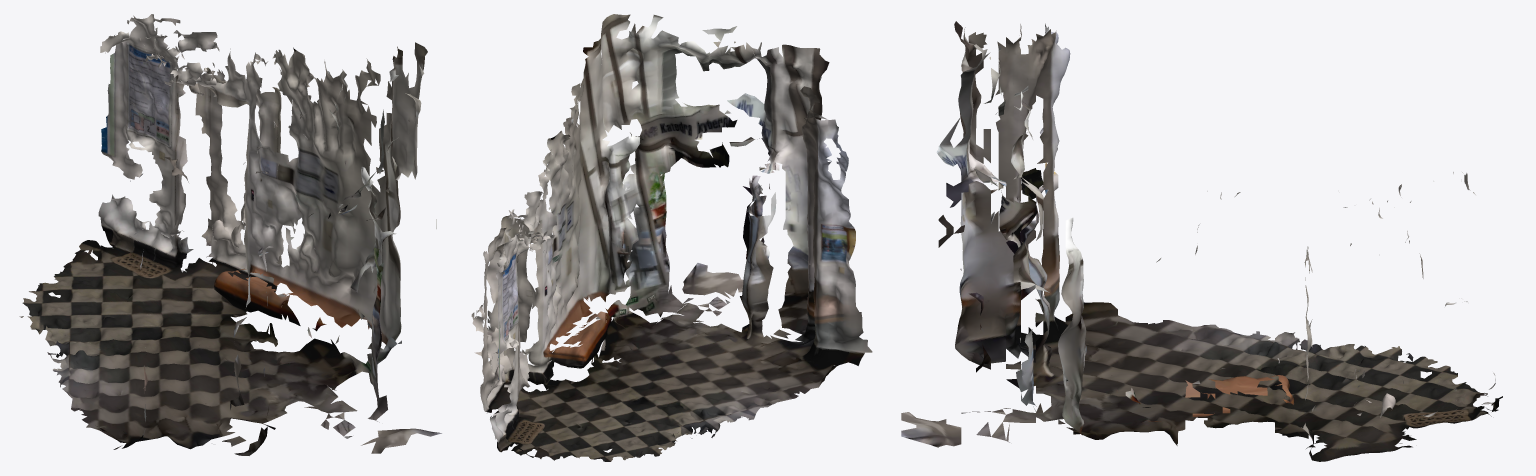
Rendered from 111101-KNKybernetika-tex.glb.
3 views of the same model, side by side, from view 1: azimuth 30°, elevation 25°; view 2: azimuth 150°, elevation 25°; view 3: azimuth 270°, elevation 25° (orthographic). The views are drawn at different scales.
Visible parts, largest first — view 1: Node; view 2: Node; view 3: Node.
Boxes of the visible parts, x1,y1,x2,y2 form: Node: (19, 14, 441, 455); Node: (471, 14, 872, 461); Node: (901, 21, 1502, 461).
Bounding box in the file's own units: 3.49 × 3.62 × 5.47.
Materials: 3 (3 with a texture image).
